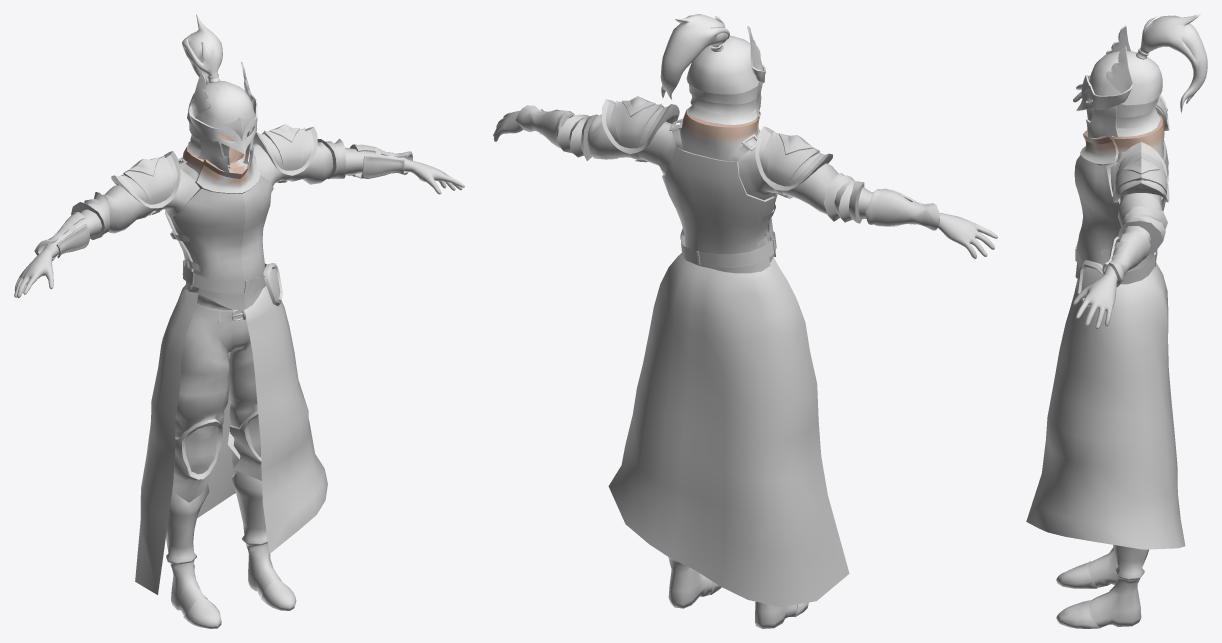
3 views of the same model, side by side, from view 1: azimuth 30°, elevation 25°; view 2: azimuth 150°, elevation 25°; view 3: azimuth 270°, elevation 25° (orthographic). The views are drawn at different scales.
Parts seen in each view (by area): view 1: 002_ManClothe, 002_ManHair; view 2: 002_ManClothe, 002_ManHair; view 3: 002_ManClothe, 002_ManHair.
Part boxes in pixels (bbox=[...]): 002_ManClothe: bbox=[14, 124, 464, 628]; 002_ManHair: bbox=[182, 14, 257, 172]; 002_ManClothe: bbox=[493, 96, 997, 628]; 002_ManHair: bbox=[660, 14, 765, 124]; 002_ManClothe: bbox=[1026, 84, 1185, 628]; 002_ManHair: bbox=[1076, 14, 1207, 137].
Size of the model in its own units: 157 by 188 by 51.96.
